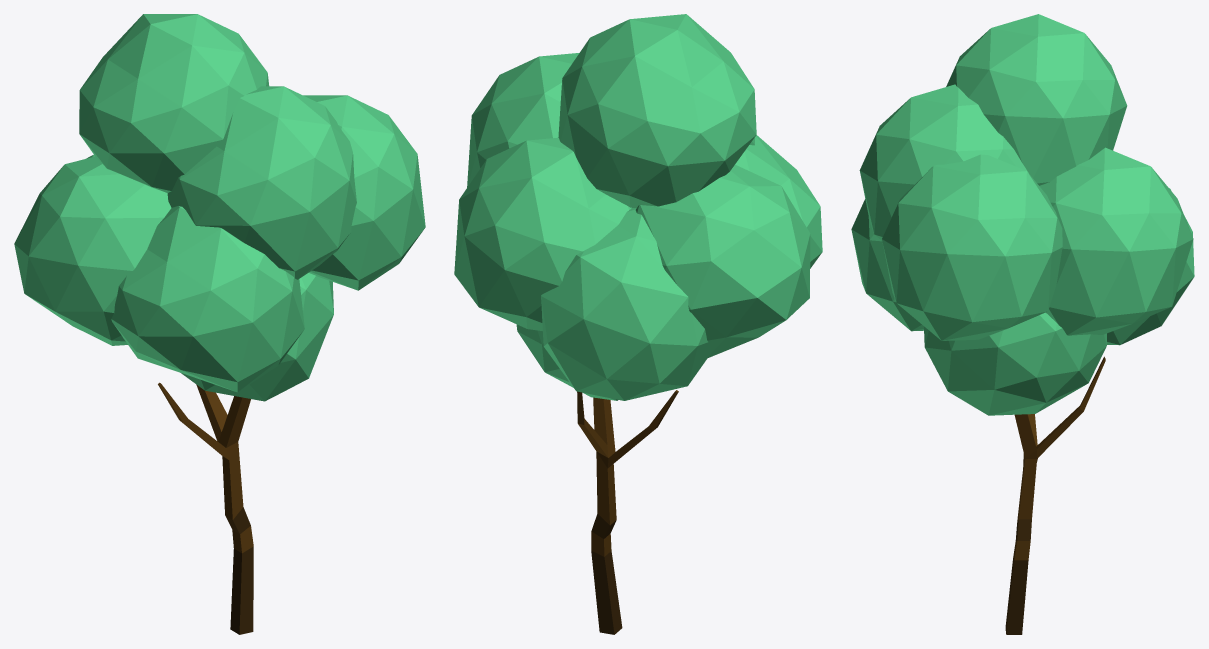
File: tree1.fbx
3 views of the same model, side by side, from view 1: azimuth 30°, elevation 25°; view 2: azimuth 150°, elevation 25°; view 3: azimuth 270°, elevation 25° (orthographic). The views are drawn at different scales.
Visible parts, largest first — view 1: Icosphere.004, Icosphere.002, Icosphere, Icosphere.003, Icosphere.005, Cube, Icosphere.008; view 2: Icosphere, Icosphere.009, Icosphere.003, Icosphere.001, Icosphere.005, Cube, Icosphere.004, Icosphere.008; view 3: Icosphere.005, Icosphere.001, Icosphere, Icosphere.008, Icosphere.002, Cube, Icosphere.004, Icosphere.009.
Part boxes in pixels (x1=…): Icosphere.004: x1=111, y1=206, x2=304, y2=392; Icosphere.002: x1=167, y1=86, x2=356, y2=279; Icosphere: x1=79, y1=14, x2=269, y2=192; Icosphere.003: x1=14, y1=156, x2=171, y2=345; Icosphere.005: x1=303, y1=95, x2=425, y2=290; Cube: x1=158, y1=382, x2=253, y2=634; Icosphere.008: x1=181, y1=273, x2=333, y2=401; Icosphere: x1=558, y1=14, x2=756, y2=207; Icosphere.009: x1=541, y1=208, x2=711, y2=400; Icosphere.003: x1=635, y1=164, x2=810, y2=357; Icosphere.001: x1=454, y1=137, x2=631, y2=331; Icosphere.005: x1=467, y1=53, x2=579, y2=187; Cube: x1=577, y1=390, x2=678, y2=634; Icosphere.004: x1=735, y1=135, x2=822, y2=268; Icosphere.008: x1=516, y1=324, x2=617, y2=400; Icosphere.005: x1=882, y1=154, x2=1062, y2=340; Icosphere.001: x1=1039, y1=147, x2=1193, y2=335; Icosphere: x1=946, y1=14, x2=1127, y2=185; Icosphere.008: x1=924, y1=312, x2=1106, y2=415; Icosphere.002: x1=859, y1=84, x2=1028, y2=240; Cube: x1=1005, y1=356, x2=1105, y2=634; Icosphere.004: x1=851, y1=199, x2=923, y2=331; Icosphere.009: x1=1107, y1=188, x2=1194, y2=345.
Size of the model in its own units: 655 by 1108 by 592.
